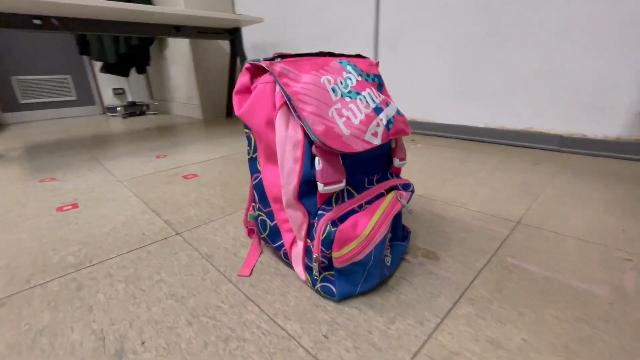Backpack: (224, 42, 423, 308)
